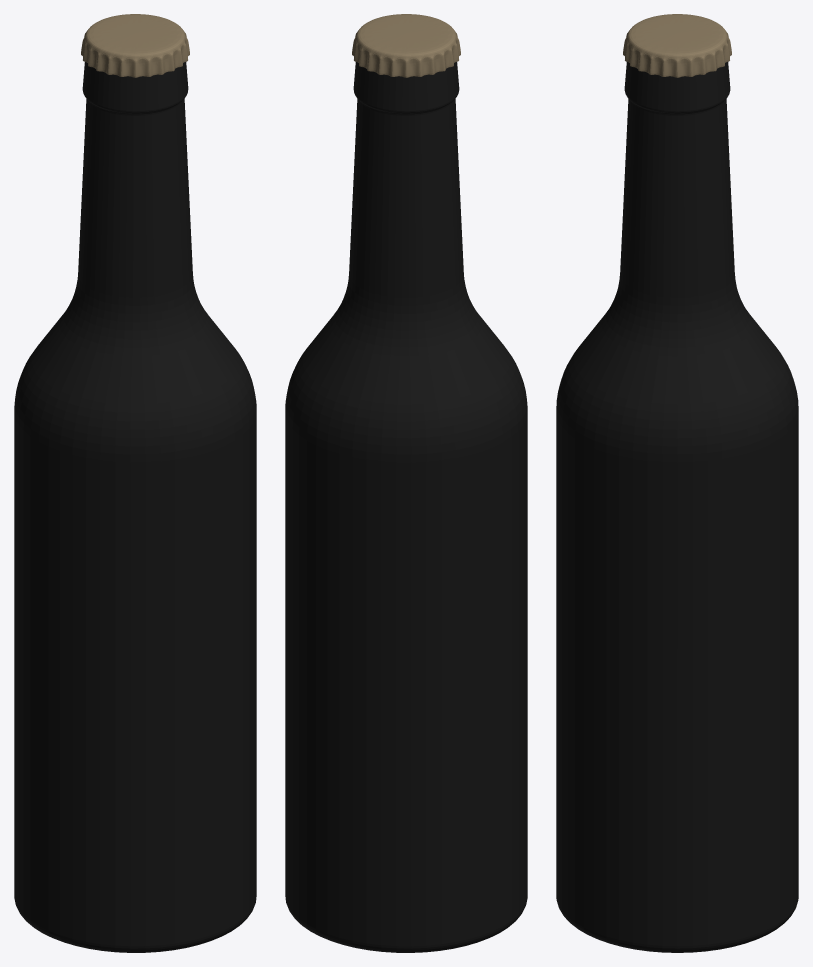
File: beer_sized.dae
3 views of the same model, side by side, from view 1: azimuth 30°, elevation 25°; view 2: azimuth 150°, elevation 25°; view 3: azimuth 270°, elevation 25° (orthographic).
Visible parts, largest first — view 1: beer_2_1_b, beer_2_1_c; view 2: beer_2_1_b, beer_2_1_c; view 3: beer_2_1_b, beer_2_1_c.
Part boxes in pixels (x1=…): beer_2_1_b: x1=14, y1=62, x2=256, y2=952; beer_2_1_c: x1=81, y1=14, x2=189, y2=77; beer_2_1_b: x1=285, y1=62, x2=527, y2=952; beer_2_1_c: x1=352, y1=14, x2=460, y2=77; beer_2_1_b: x1=556, y1=62, x2=798, y2=952; beer_2_1_c: x1=623, y1=14, x2=731, y2=77.
Size of the model in its own units: 0.1846 by 0.1843 by 0.7324.
